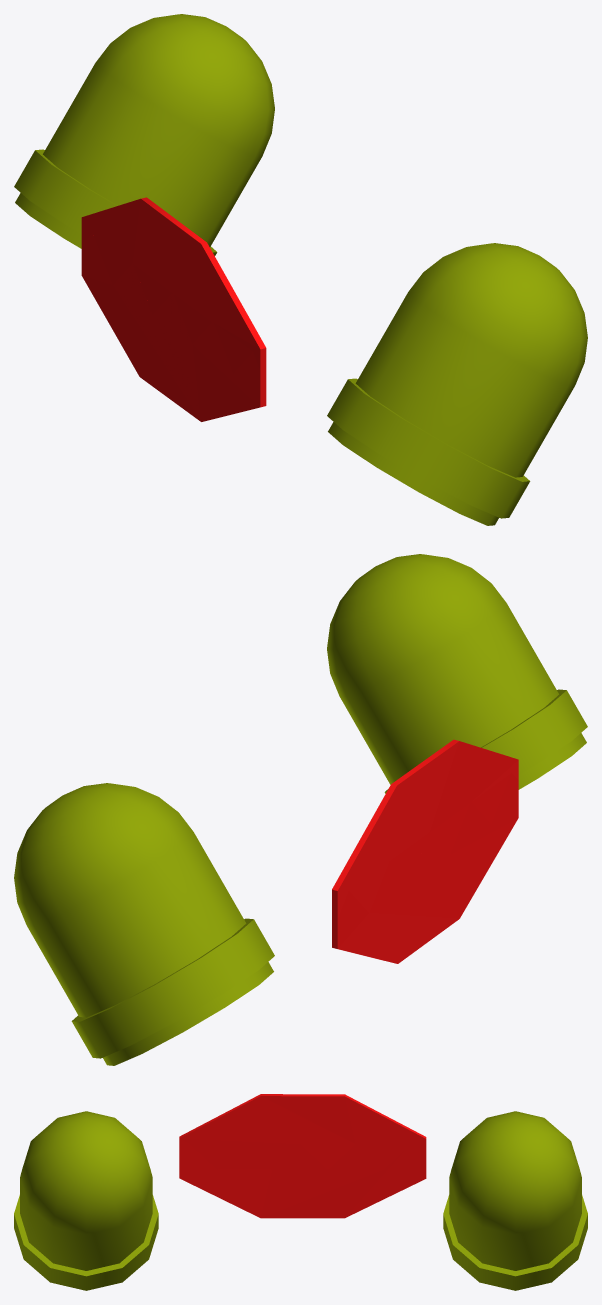
Rendered from boss_1_p2.FBX.
3 renders of one model, top to bottom at view 1: azimuth 30°, elevation 25°; view 2: azimuth 150°, elevation 25°; view 3: azimuth 270°, elevation 25°, orthographic. The views are drawn at different scales.
Visible parts, largest first — view 1: Capsule002, Object008, Object009; view 2: Capsule002, Object009, Object008; view 3: Capsule002, Object008, Object009.
Part boxes in pixels (box(x1,y1,x2,y2)): Capsule002: box(14, 14, 587, 525); Object008: box(81, 233, 266, 421); Object009: box(81, 197, 266, 374); Capsule002: box(14, 554, 587, 1065); Object009: box(332, 739, 518, 918); Object008: box(332, 772, 518, 963); Capsule002: box(14, 1111, 587, 1290); Object008: box(179, 1144, 426, 1218); Object009: box(179, 1094, 426, 1169).
Size of the model in its own units: 41.8 by 123 by 41.67.
